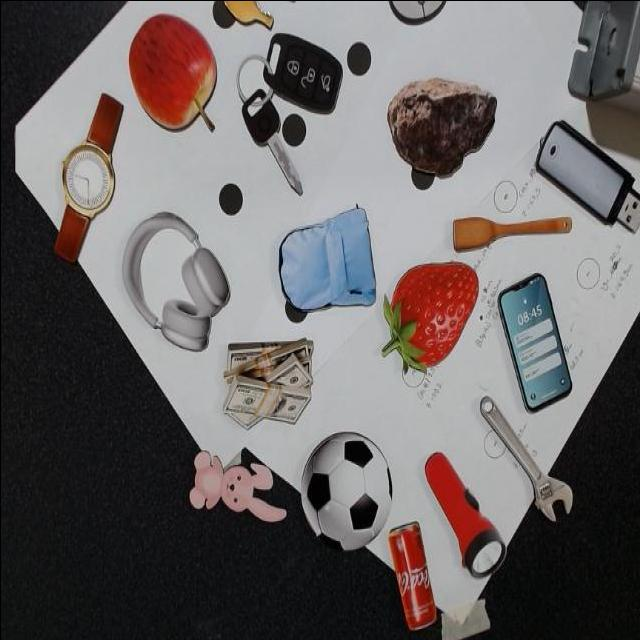Other Objects: (210, 3, 351, 196), (119, 208, 230, 351), (404, 443, 510, 590), (271, 202, 379, 324), (477, 392, 572, 521), (52, 91, 123, 263), (385, 75, 496, 176), (299, 432, 390, 549), (127, 12, 216, 131), (496, 271, 571, 412), (221, 335, 312, 428), (187, 447, 285, 521), (386, 519, 436, 629), (452, 216, 570, 251), (390, 1, 443, 23), (1, 0, 1, 1)
